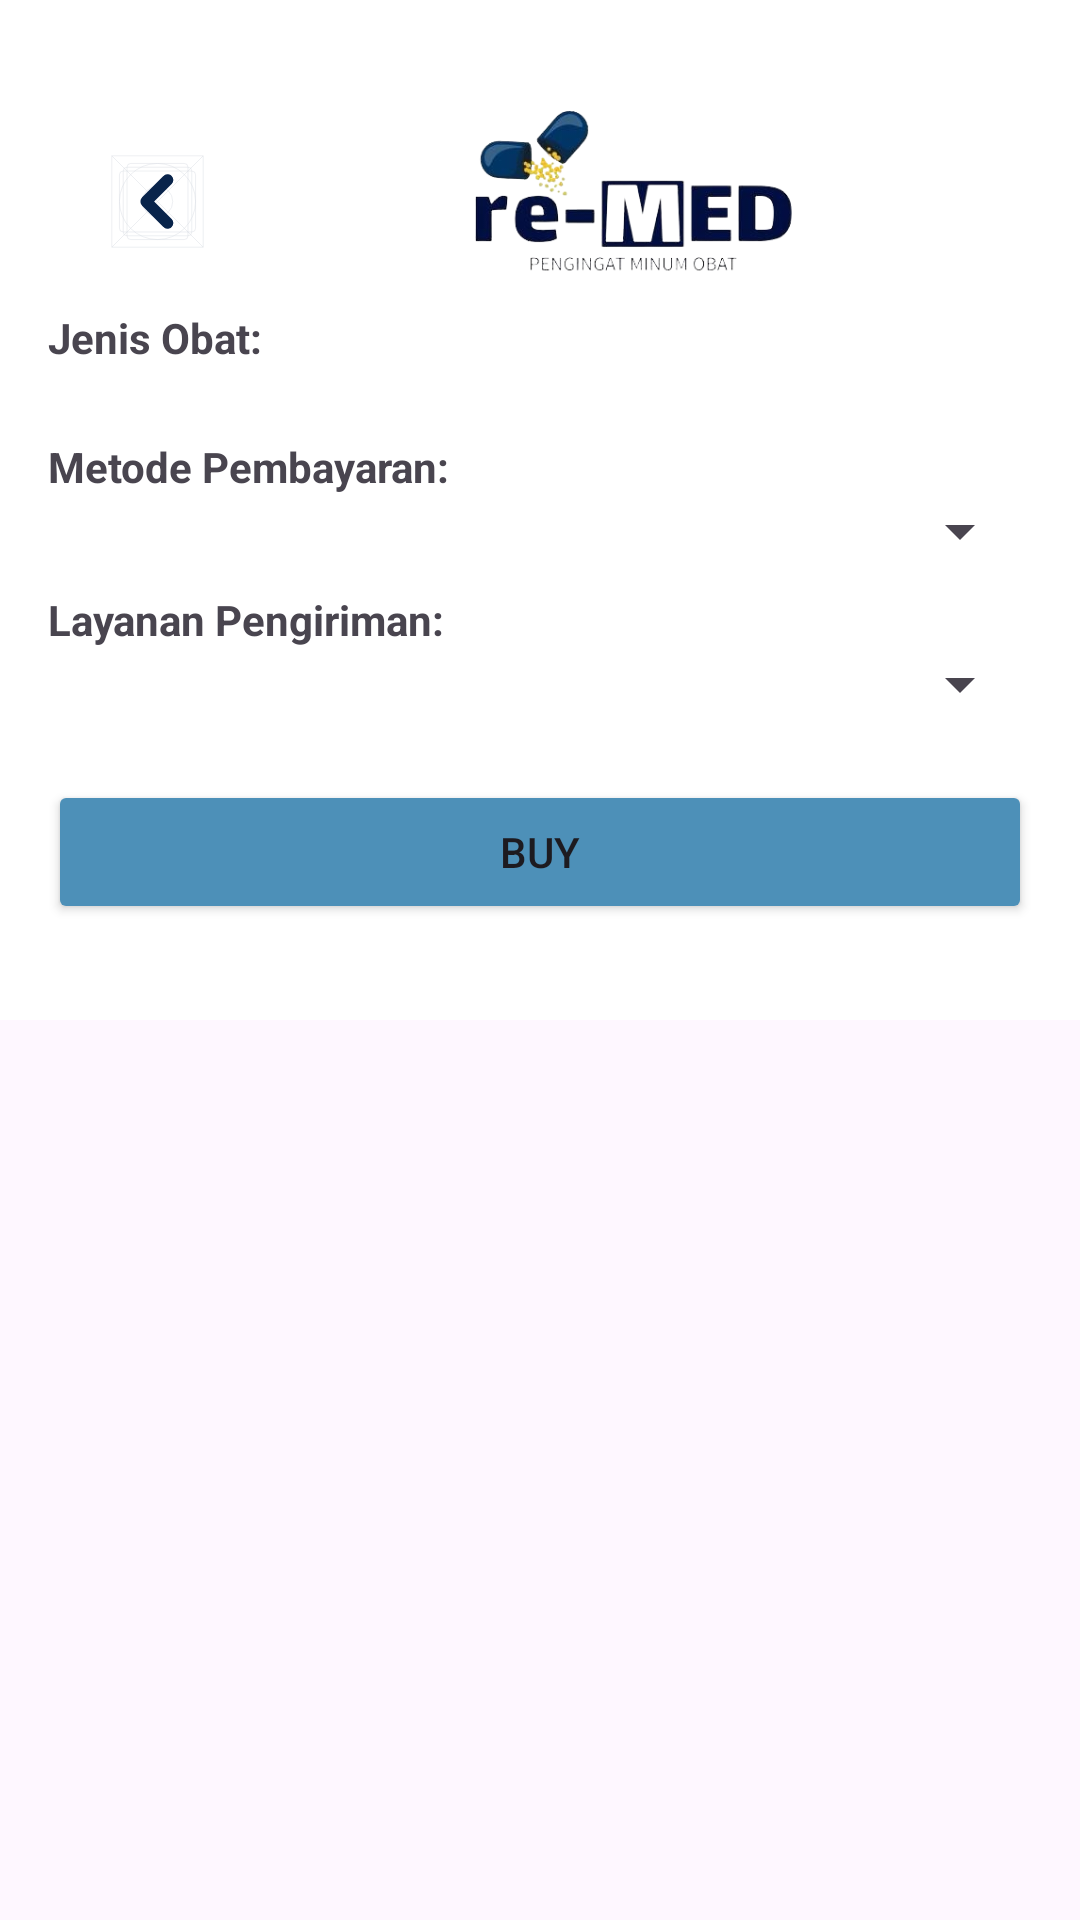

Screen size 1080 × 1920. Icon name, then its box in pixels as rect(x1, y1, x2, y2):
back: rect(119, 163, 196, 240)
